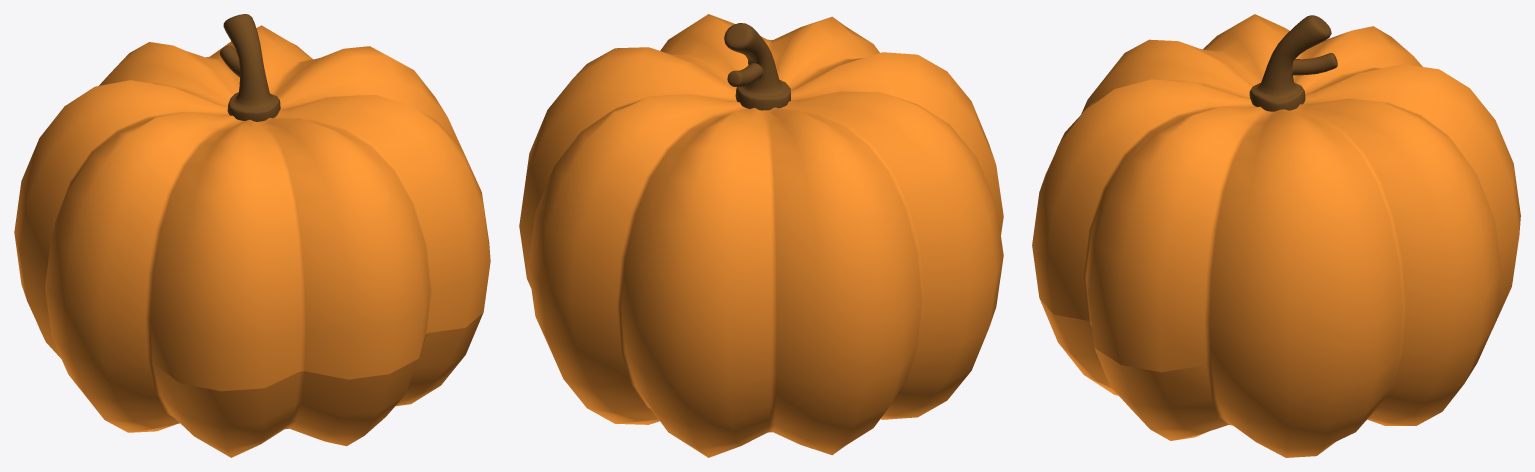
The model's file is Pumpkin.fbx.
3 views of the same model, side by side, from view 1: azimuth 30°, elevation 25°; view 2: azimuth 150°, elevation 25°; view 3: azimuth 270°, elevation 25° (orthographic). The views are drawn at different scales.
Parts seen in each view (by area): view 1: ng3; view 2: ng3; view 3: ng3.
Part boxes in pixels (bbox=[...]): ng3: bbox=[14, 14, 490, 457]; ng3: bbox=[519, 14, 1003, 457]; ng3: bbox=[1032, 14, 1520, 457].
Bounding box in the file's own units: 45.02 × 38.55 × 44.76.
